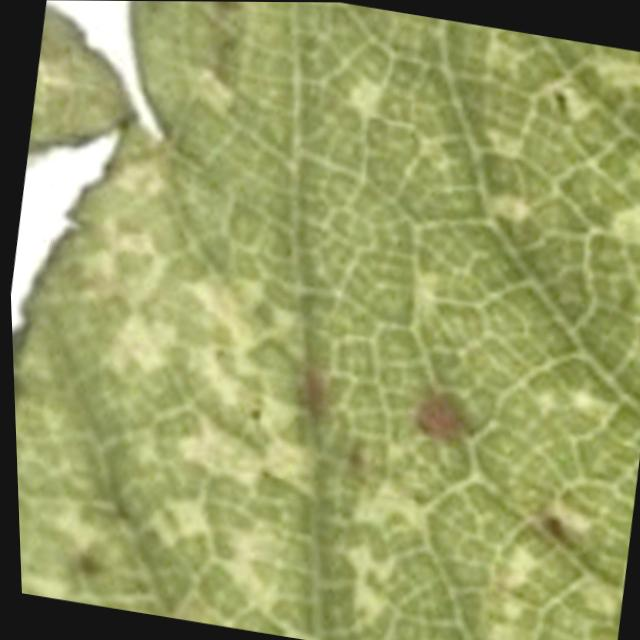Angular Leafspot: (11, 1, 640, 640)
